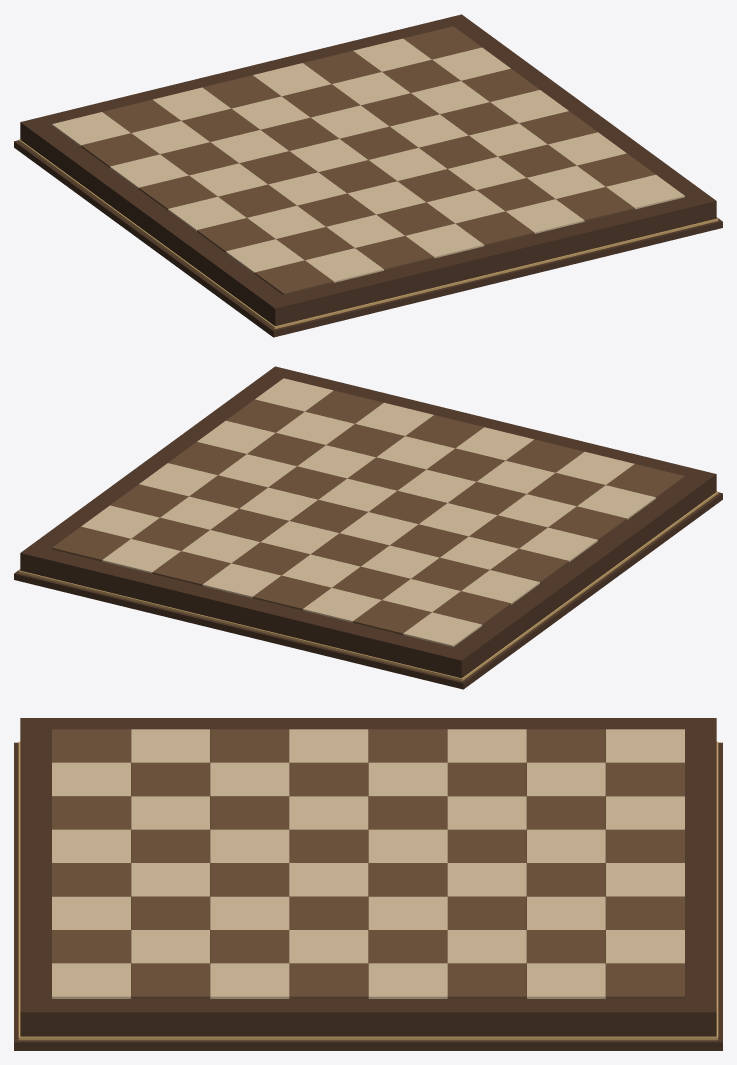
The model's file is chess_board.glb.
3 views of the same model, one above another, from view 1: azimuth 30°, elevation 25°; view 2: azimuth 150°, elevation 25°; view 3: azimuth 270°, elevation 25° (orthographic). The views are drawn at different scales.
Visible parts, largest first — view 1: Walnut board frame, Lower plinth, Brass reveal, Square a1, Square h1, Square d1, Square e1, Square f1, Square b1, Square c1, Square g1, Square a3 (+55 smaller); view 2: Walnut board frame, Lower plinth, Brass reveal, Square a8, Square h8, Square d8, Square e8, Square f8, Square b8, Square c8, Square g8, Square a1 (+55 smaller); view 3: Walnut board frame, Lower plinth, Brass reveal, Square h3, Square h4, Square h5, Square h6, Square h1, Square h2, Square h7, Square h8, Square b3 (+55 smaller).
Part boxes in pixels (bbox=[...]): Walnut board frame: bbox=[20, 14, 716, 326]; Lower plinth: bbox=[14, 140, 722, 337]; Brass reveal: bbox=[18, 139, 718, 328]; Square a1: bbox=[254, 260, 333, 294]; Square h1: bbox=[606, 174, 684, 209]; Square d1: bbox=[405, 223, 484, 258]; Square e1: bbox=[455, 211, 534, 246]; Square f1: bbox=[506, 199, 584, 233]; Square b1: bbox=[305, 248, 383, 282]; Square c1: bbox=[355, 236, 433, 270]; Square g1: bbox=[556, 187, 634, 221]; Square a3: bbox=[197, 218, 275, 252]; Walnut board frame: bbox=[20, 366, 716, 678]; Lower plinth: bbox=[14, 492, 722, 689]; Brass reveal: bbox=[18, 491, 718, 680]; Square a8: bbox=[403, 612, 482, 646]; Square h8: bbox=[52, 526, 130, 561]; Square d8: bbox=[252, 575, 331, 610]; Square e8: bbox=[202, 563, 281, 598]; Square f8: bbox=[152, 551, 230, 585]; Square b8: bbox=[353, 600, 431, 634]; Square c8: bbox=[303, 588, 381, 622]; Square g8: bbox=[102, 539, 180, 573]; Square a1: bbox=[606, 464, 684, 498]; Walnut board frame: bbox=[20, 718, 716, 1036]; Lower plinth: bbox=[14, 742, 722, 1050]; Brass reveal: bbox=[18, 741, 718, 1040]; Square h3: bbox=[210, 963, 289, 998]; Square h4: bbox=[289, 963, 368, 998]; Square h5: bbox=[368, 963, 447, 998]; Square h6: bbox=[447, 963, 526, 998]; Square h1: bbox=[52, 963, 130, 998]; Square h2: bbox=[131, 963, 209, 998]; Square h7: bbox=[527, 963, 605, 998]; Square h8: bbox=[606, 963, 684, 998]; Square b3: bbox=[210, 762, 289, 796].
Size of the model in its own units: 0.448 by 0.0265 by 0.448.
